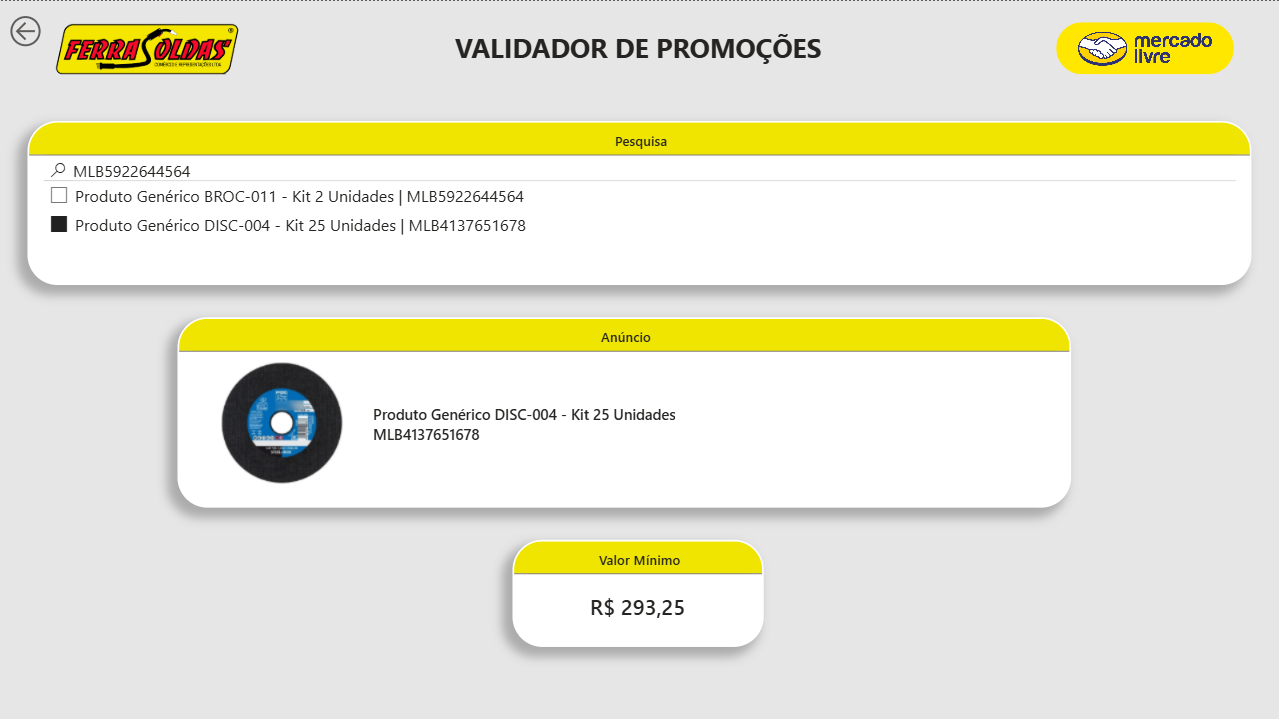

This screenshot's page, from the dashboard's own definition file:
{"tool":"powerbi","page":{"name":"Promoções","canvas":[1280,720],"ordinal":2},"visuals":[{"type":"cardVisual","title":"Anúncio","fields":{"Data":["dim_produtos.anuncio (display)"]},"box":[177.5,316.2,893.8,190],"z":0},{"type":"cardVisual","title":"Valor Mínimo","fields":{"Data":["fact_anuncios.preco minimo (display)"]},"box":[512.5,538.8,251.2,107.5],"z":1000},{"type":"actionButton","box":[0,6.2,51,47.3],"z":2000},{"type":"simpleImageEBC4593F96F1425FB3D84C5BF02B5075","fields":{"imageURL":["fact_anuncios.imagem"]},"box":[210.8,351.7,142.1,154],"z":3000},{"type":"image","box":[1056.1,21.1,177.9,52.2],"z":4000},{"type":"image","box":[51,14.9,195.3,67.2],"z":5000},{"type":"textbox","box":[403,23.6,471.5,47.3],"z":6000},{"type":"slicer","title":"Pesquisa","fields":{"Values":["fact_anuncios.pesquisa (display)"]},"box":[27.4,119.4,1224.1,164.2],"z":7000}]}

Visuals, with their boxes in screenshot pixels (x1, y1, x2, y2), scaled from the page's 1280x720 canvas onto the 1279x719 screenshot:
"Anúncio" cardVisual: rect(177, 316, 1070, 505)
"Valor Mínimo" cardVisual: rect(512, 538, 763, 645)
actionButton: rect(0, 6, 51, 53)
simpleImageEBC4593F96F1425FB3D84C5BF02B5075 - fact_anuncios.imagem: rect(211, 351, 353, 505)
image: rect(1055, 21, 1233, 73)
image: rect(51, 15, 246, 82)
textbox: rect(403, 24, 874, 71)
"Pesquisa" slicer: rect(27, 119, 1251, 283)
